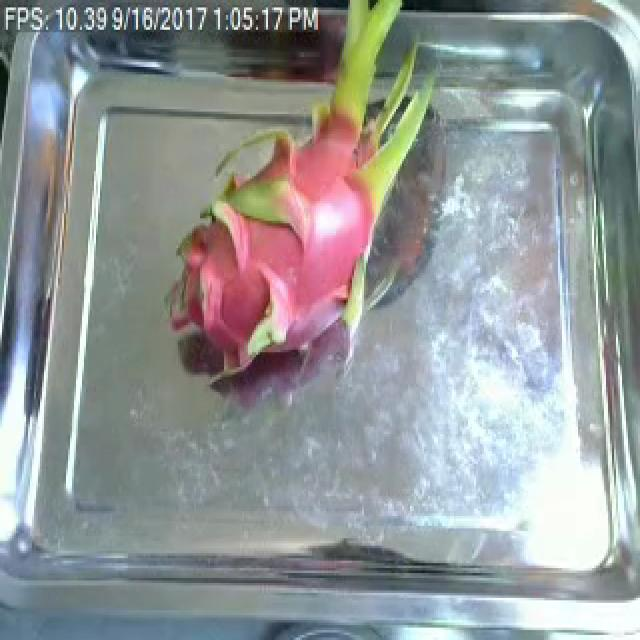fruit: (142, 2, 458, 387)
